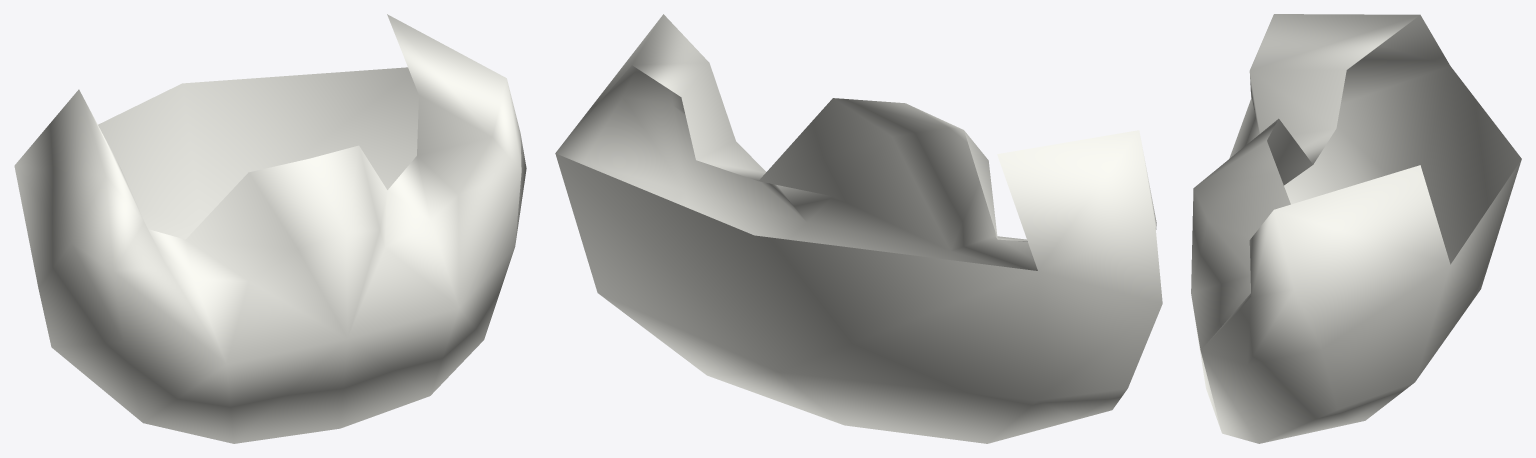
The model's file is Beard_White_3.fbx.
3 renders of one model, left to right at view 1: azimuth 30°, elevation 25°; view 2: azimuth 150°, elevation 25°; view 3: azimuth 270°, elevation 25°, orthographic. The views are drawn at different scales.
Visible parts, largest first — view 1: Beard_White_3; view 2: Beard_White_3; view 3: Beard_White_3.
Part boxes in pixels (x1,y1,x2,y2): Beard_White_3: (14,14,526,443); Beard_White_3: (555,14,1162,443); Beard_White_3: (1191,14,1521,443).
Size of the model in its own units: 19.77 by 11.55 by 11.6.
